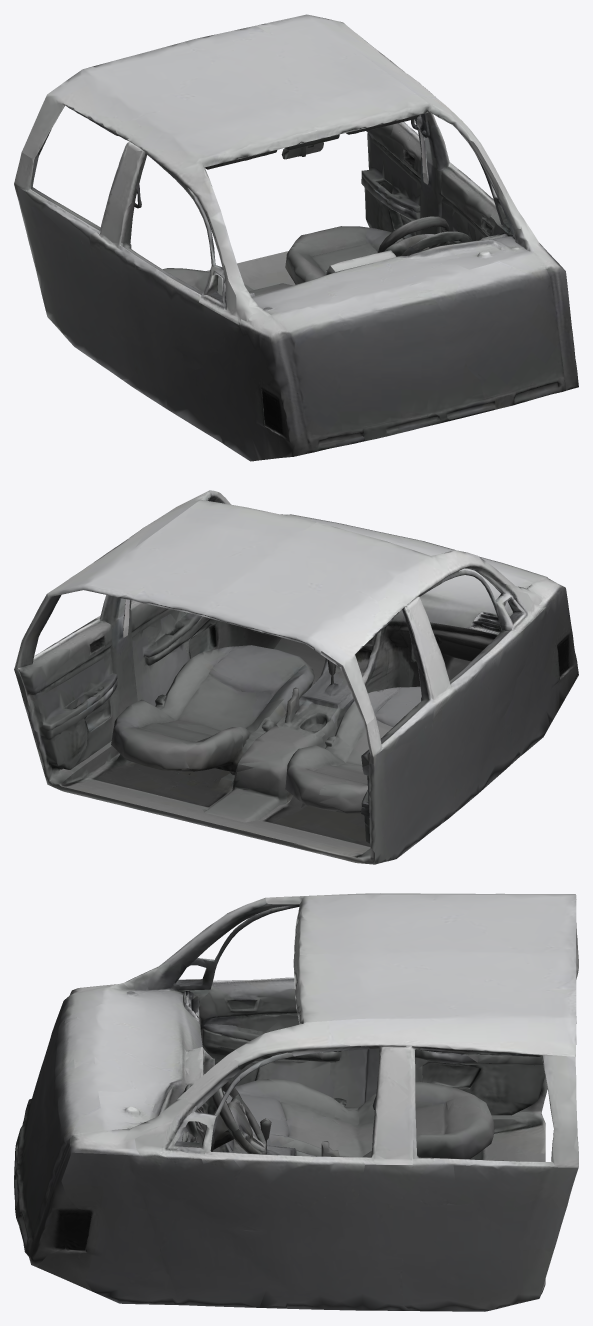
File: int_carro.glb
The picture shows the model from 3 angles, top to bottom: view 1: azimuth 30°, elevation 25°; view 2: azimuth 150°, elevation 25°; view 3: azimuth 270°, elevation 25°; orthographic projection. The views are drawn at different scales.
Parts seen in each view (by area): view 1: veiculo; view 2: veiculo; view 3: veiculo.
Boxes of the visible parts, x1,y1,x2,y2 form: veiculo: (14, 14, 578, 461); veiculo: (14, 490, 578, 864); veiculo: (14, 893, 578, 1311).
Bounding box in the file's own units: 1.75 × 1.12 × 2.11.
Materials: 1 (1 with a texture image).
